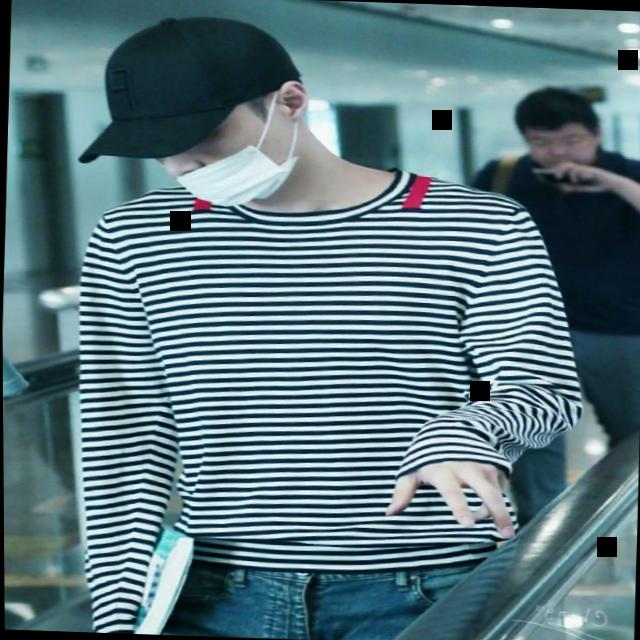Mask: (80, 5, 321, 227)
NO-Mask: (506, 82, 609, 178)
